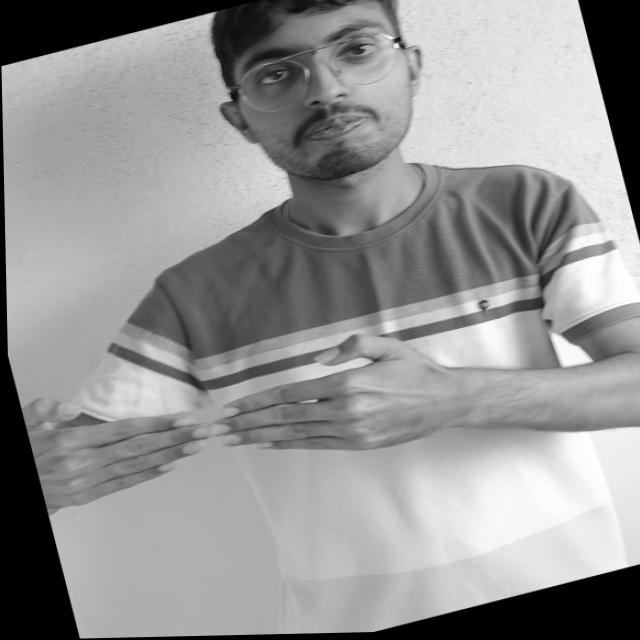Night: (19, 283, 490, 552)
